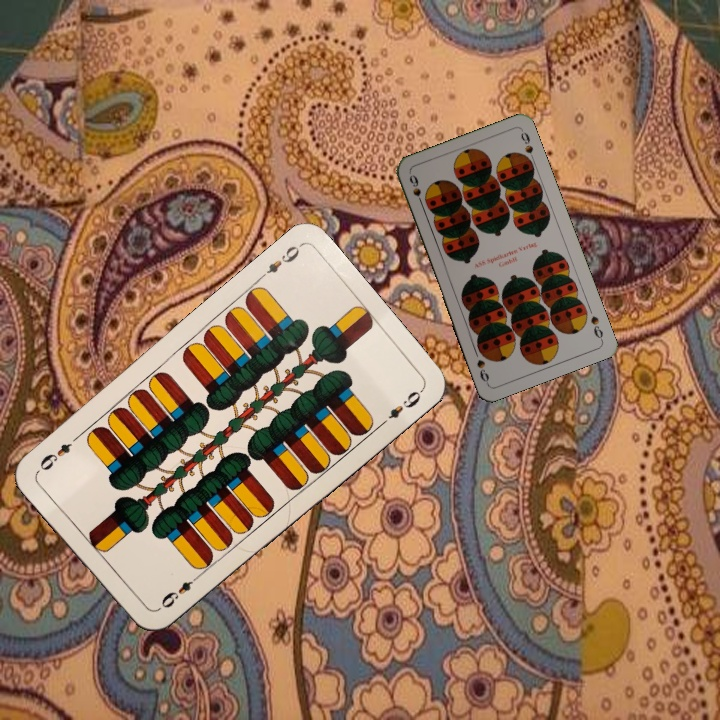E9: (153, 571, 202, 614), (254, 241, 304, 283)
S9: (405, 171, 426, 210), (586, 311, 606, 343)
